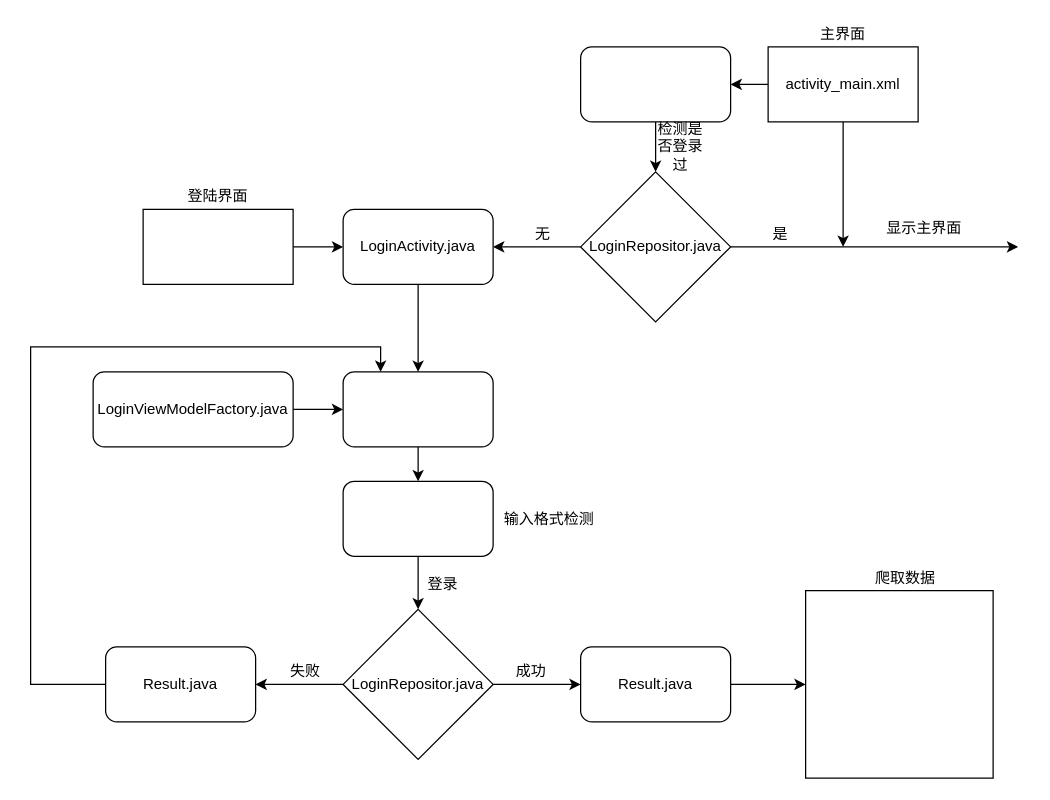
Image size: 1050x800. Some labels were removed from this diagram. The shapes that lost their labels are listed below. From the top down, each one's box as (x1, y1, x2, y2) in pixels, then its label:
(579, 46, 731, 122): MainActivity.java
(142, 208, 293, 284): activity_login.xml
(342, 371, 493, 447): LoginViewModel.java
(342, 480, 493, 556): LoginFormState.java
